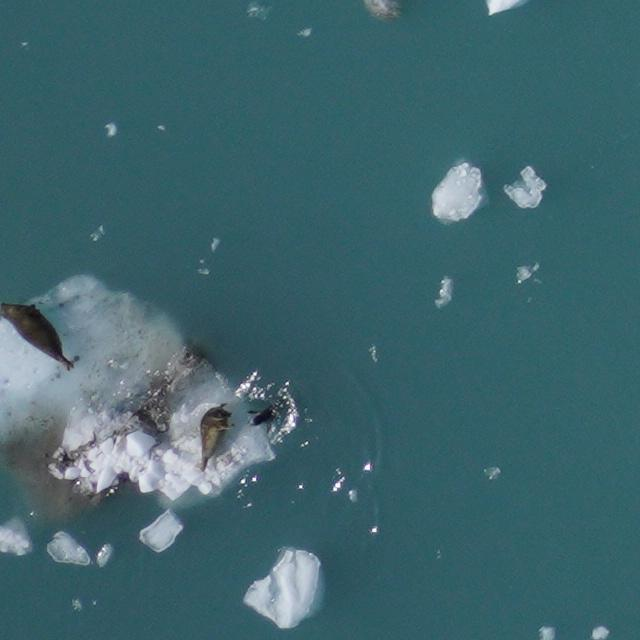seal: (0, 287, 86, 379), (196, 402, 233, 474)
